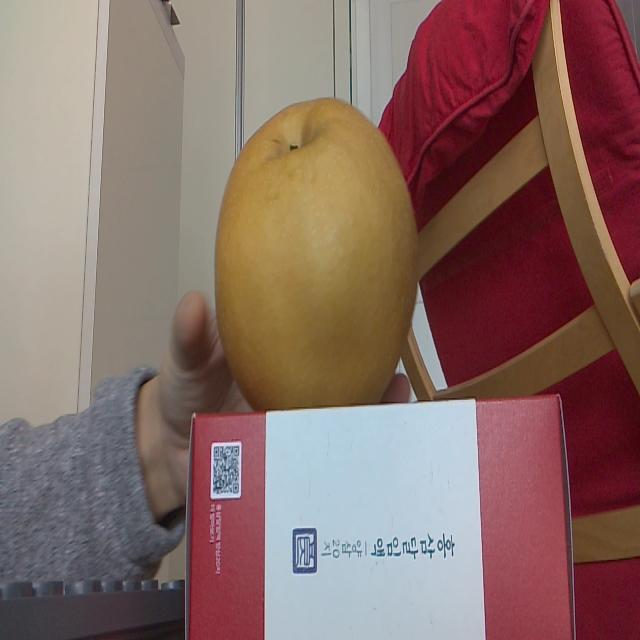pear: (215, 89, 418, 406)
